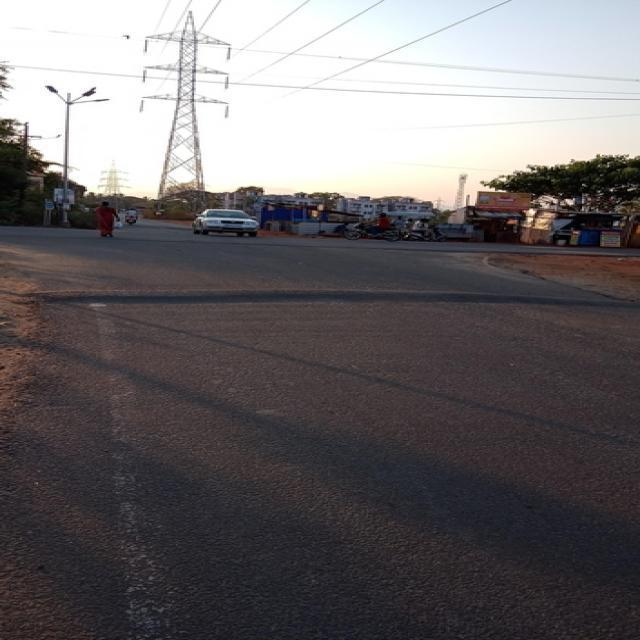NonMarked Bump: (58, 276, 610, 312)
